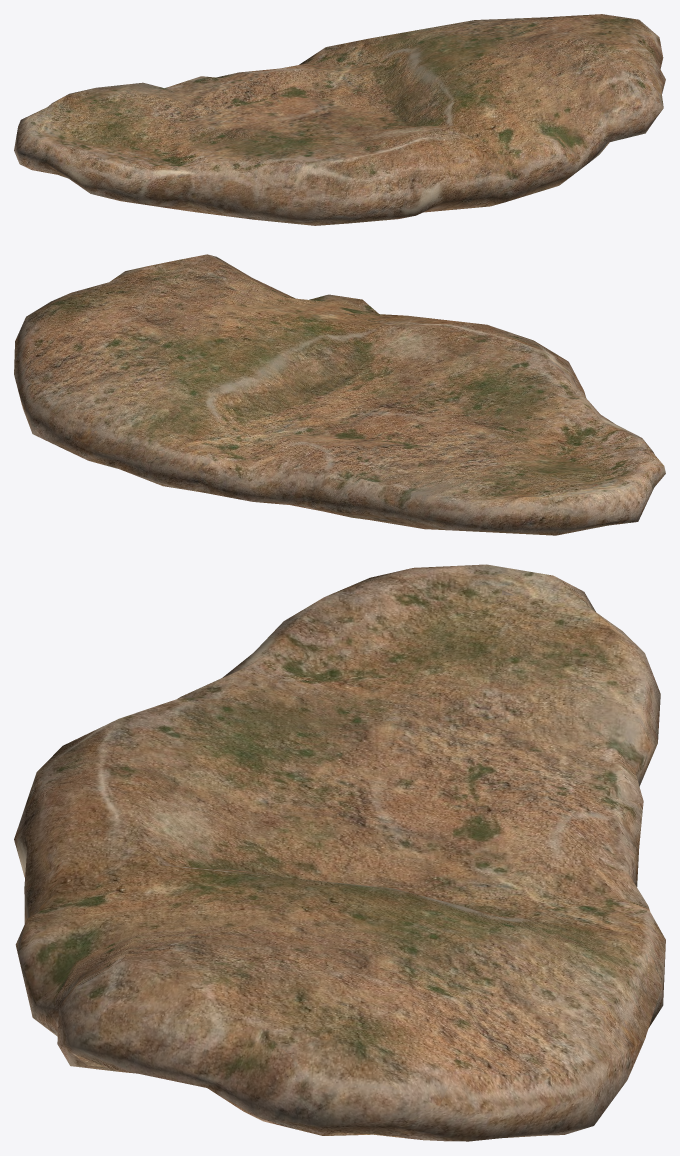
Rendered from RocaC.fbx.
The picture shows the model from 3 angles, top to bottom: view 1: azimuth 30°, elevation 25°; view 2: azimuth 150°, elevation 25°; view 3: azimuth 270°, elevation 25°; orthographic projection. The views are drawn at different scales.
Visible parts, largest first — view 1: RocaC; view 2: RocaC; view 3: RocaC.
Boxes of the visible parts, bbox=[...] form: RocaC: bbox=[14, 14, 665, 225]; RocaC: bbox=[14, 254, 665, 535]; RocaC: bbox=[14, 564, 665, 1141].
Size of the model in its own units: 45.3 by 7.13 by 23.77.
Materials: 1 (1 with a texture image).
